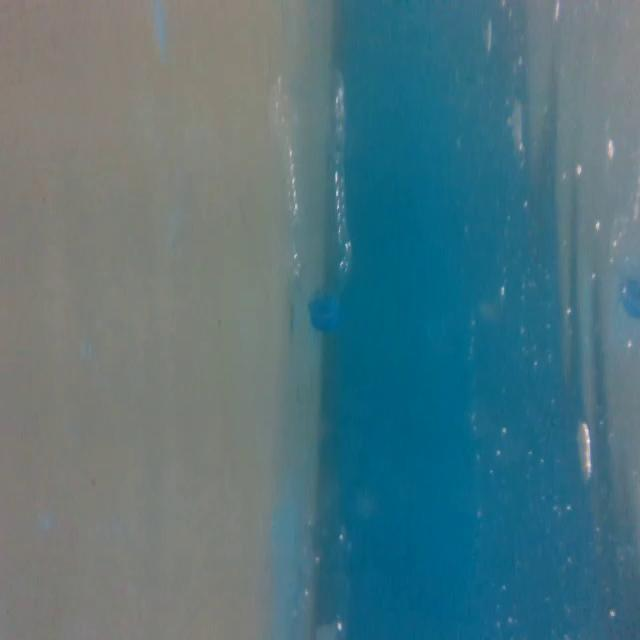plastic bottle: (266, 54, 362, 335)
